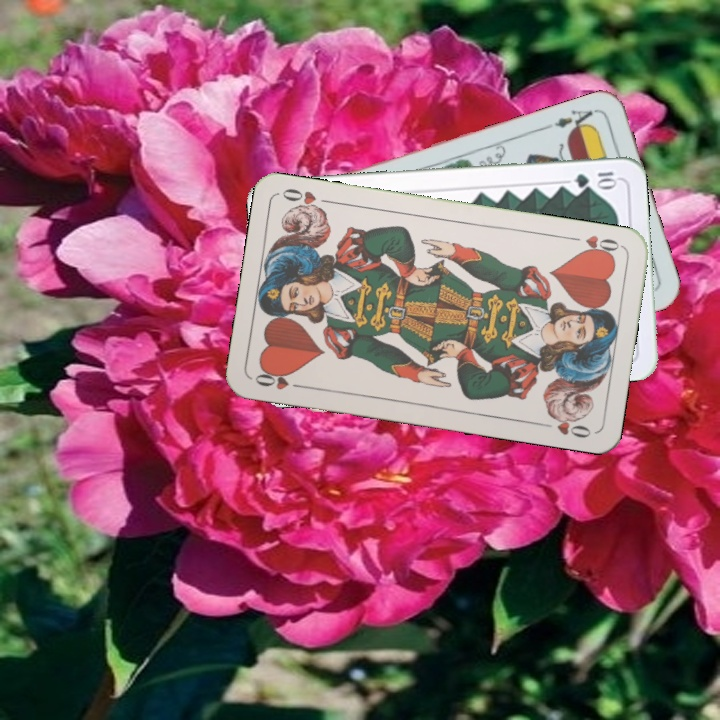EA: (550, 105, 599, 136)
G10: (571, 167, 620, 190)
HO: (565, 231, 624, 259), (251, 366, 308, 393)
